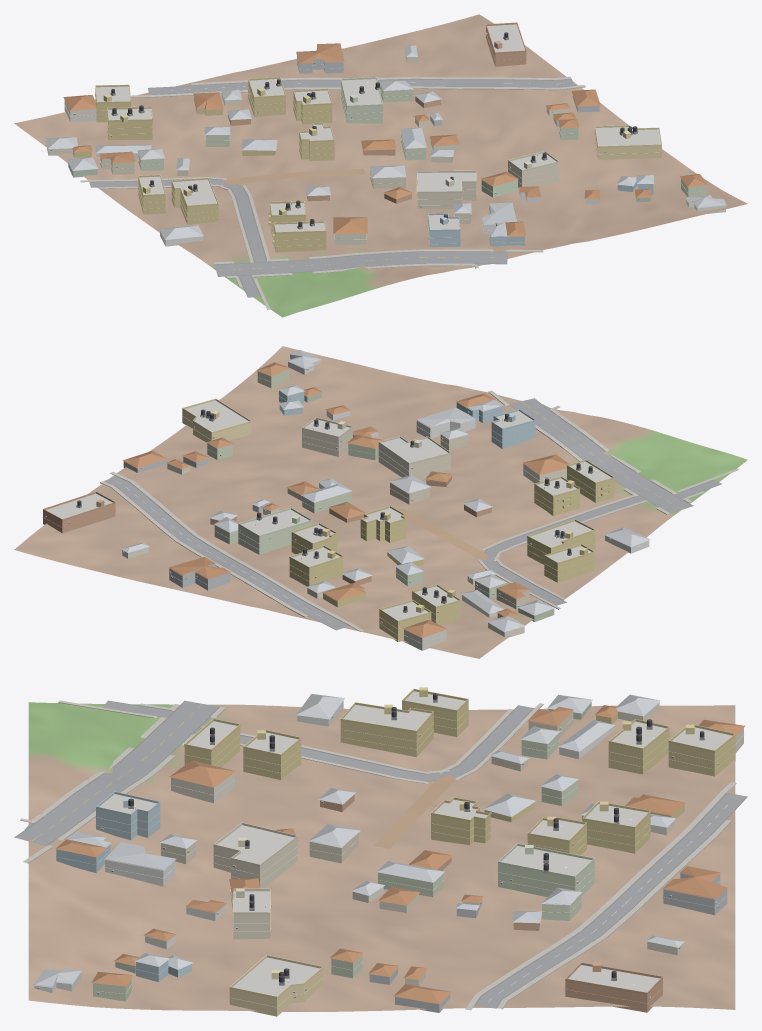
The picture shows the model from 3 angles, top to bottom: view 1: azimuth 30°, elevation 25°; view 2: azimuth 150°, elevation 25°; view 3: azimuth 270°, elevation 25°; orthographic projection. The views are drawn at different scales.
Parts seen in each view (by area): view 1: Terrain-col, Buildings-col, Roads-col, Details, Sidewalks-col; view 2: Terrain-col, Buildings-col, Roads-col, Details, Sidewalks-col; view 3: Terrain-col, Buildings-col, Roads-col, Details, Sidewalks-col.
Part boxes in pixels (x1,y1,x2,y2): Terrain-col: [14, 14, 747, 317]; Buildings-col: [45, 24, 726, 252]; Roads-col: [89, 78, 575, 297]; Details: [50, 22, 706, 246]; Sidewalks-col: [80, 76, 585, 309]; Terrain-col: [14, 346, 747, 658]; Buildings-col: [43, 350, 650, 650]; Roads-col: [104, 398, 721, 630]; Details: [42, 368, 614, 644]; Sidewalks-col: [100, 390, 739, 631]; Terrain-col: [28, 702, 735, 1011]; Buildings-col: [33, 691, 744, 1016]; Roads-col: [14, 700, 747, 1008]; Details: [37, 687, 744, 1007]; Sidewalks-col: [20, 700, 736, 1010].
Size of the model in its own units: 265 by 17.9 by 266.
